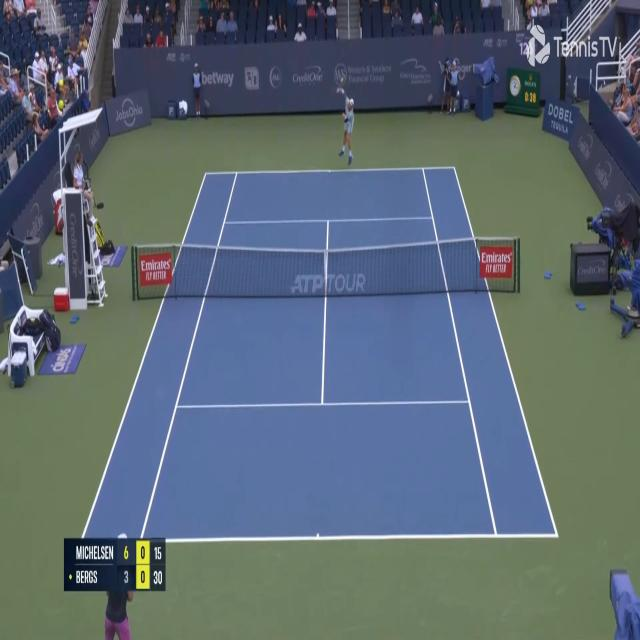tennis-player: (100, 520, 135, 640), (337, 96, 357, 166)
